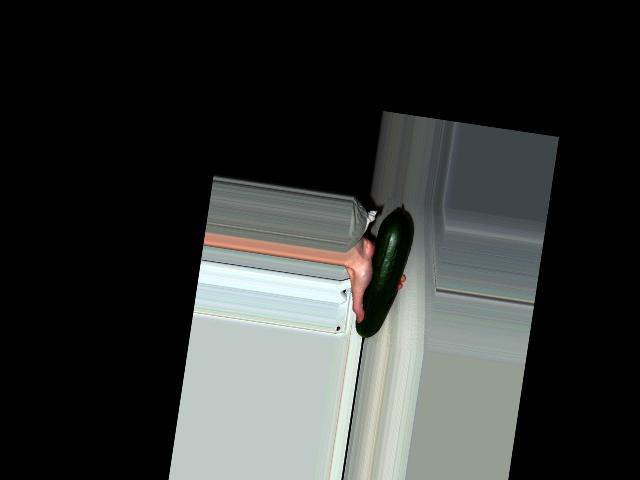cucumber: (354, 203, 417, 342)
